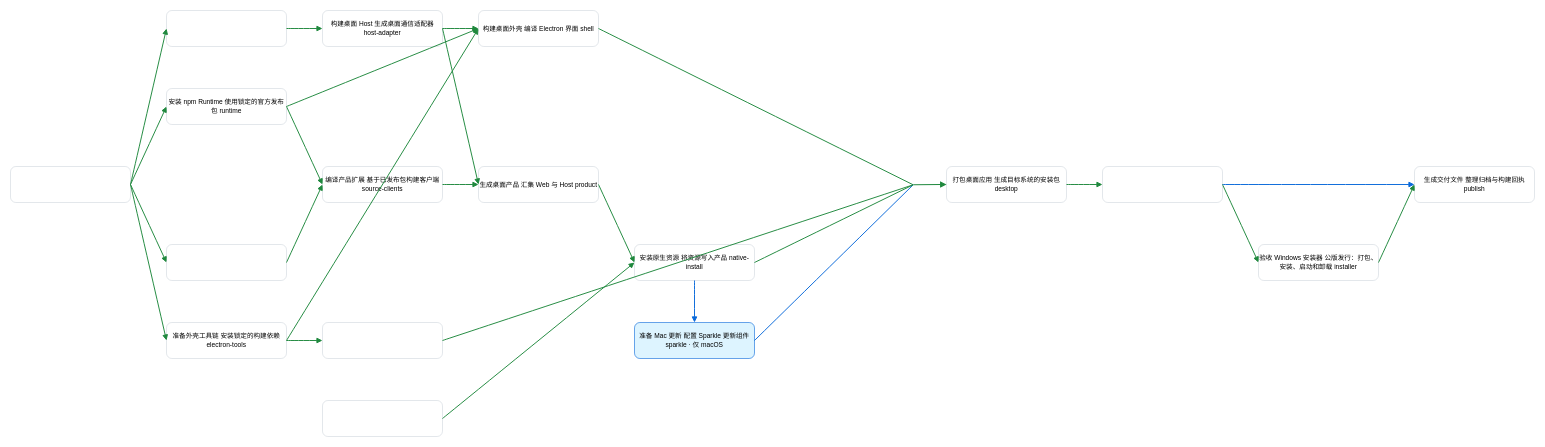
Image size: 1545x447. Some labels were removed from this diagram. The centre of each missing label's shape, as x and y in pixels:
准备 Electron 获取锁定的运行时 electron: [382,340]
准备原生资源 获取对应系统的资源 native-inputs: [382,418]
安装 npm 插件 准备插件包与构建依赖 source-dependencies: [226,262]
核对源码与机构锁 验证快照及依赖来源 source-audit: [70,184]
获取锁定上游 准备官方 Host 与外壳源码 upstream: [226,28]
验收桌面包 检查打包后的启动 accept: [1162,184]
